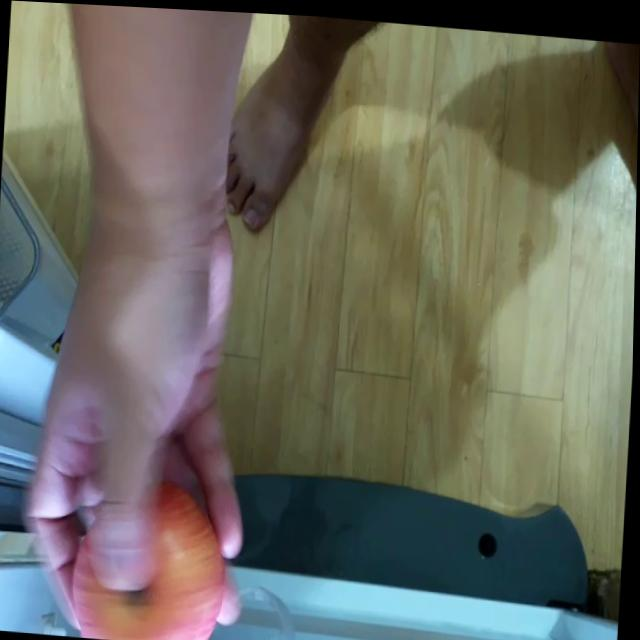apple: (76, 472, 236, 640)
